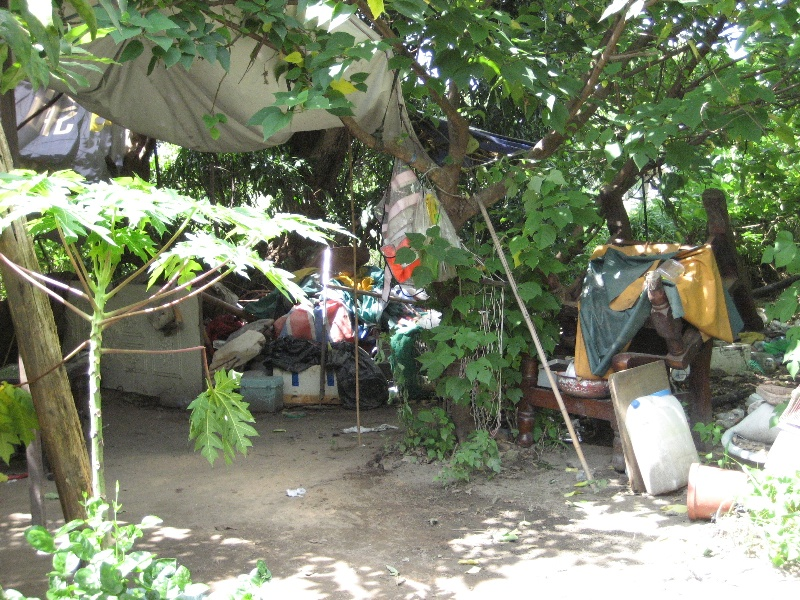bucket: (623, 387, 698, 496), (684, 461, 752, 524)
plastic_bag: (80, 8, 398, 152), (571, 235, 736, 383), (369, 152, 462, 288), (268, 333, 390, 410), (273, 270, 357, 346)
